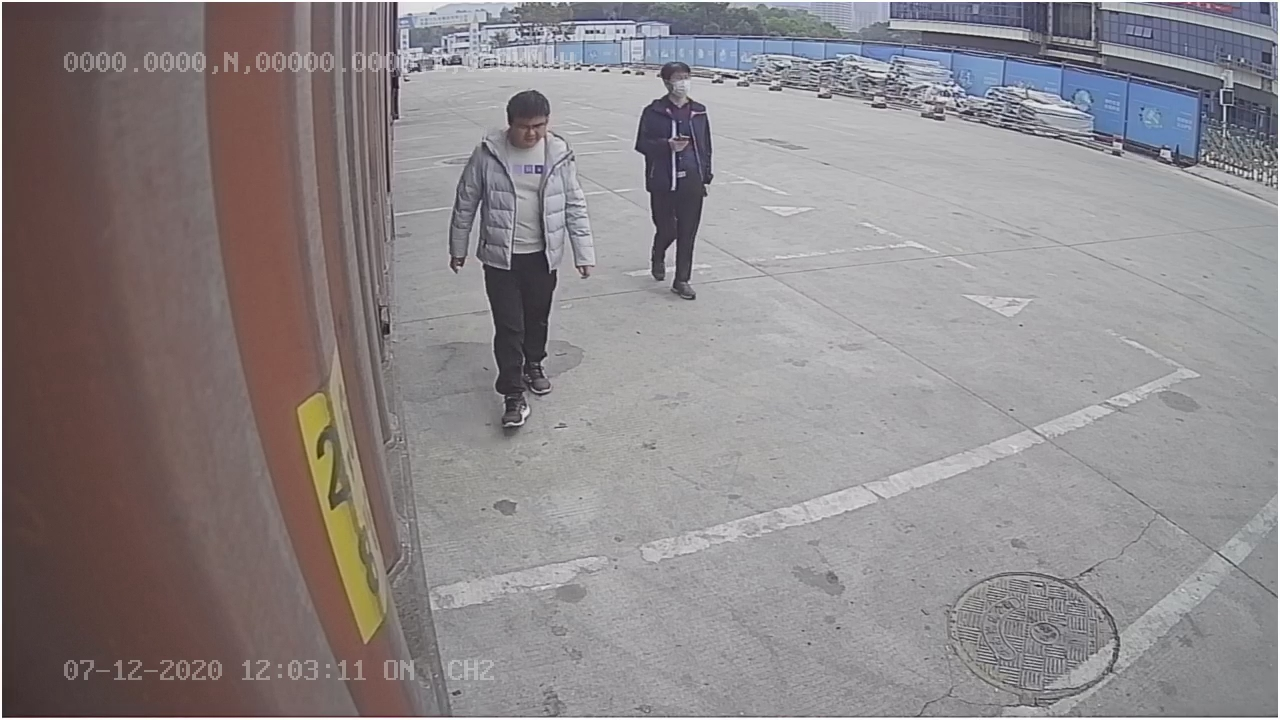person: (449, 81, 602, 434), (633, 56, 714, 304)
